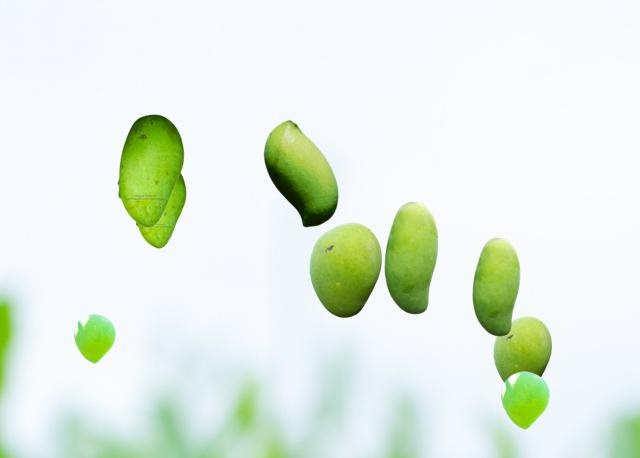green_mango: (263, 119, 337, 226), (117, 114, 183, 226), (309, 222, 380, 316), (384, 201, 437, 313), (472, 237, 519, 335), (493, 316, 550, 382), (135, 173, 185, 247), (501, 371, 548, 428), (74, 314, 114, 362)
